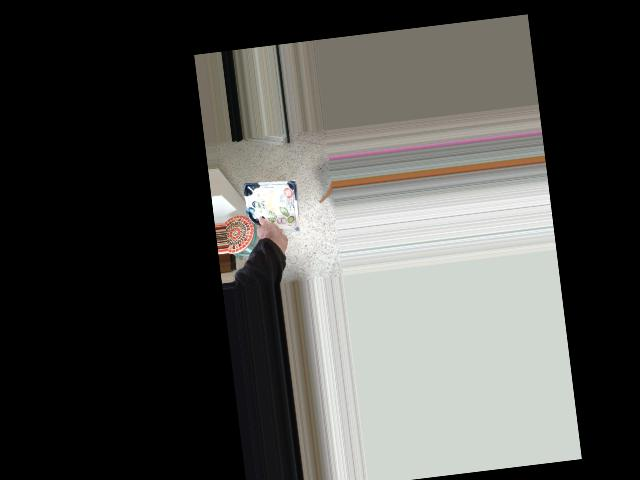cheese: (236, 179, 310, 253)
